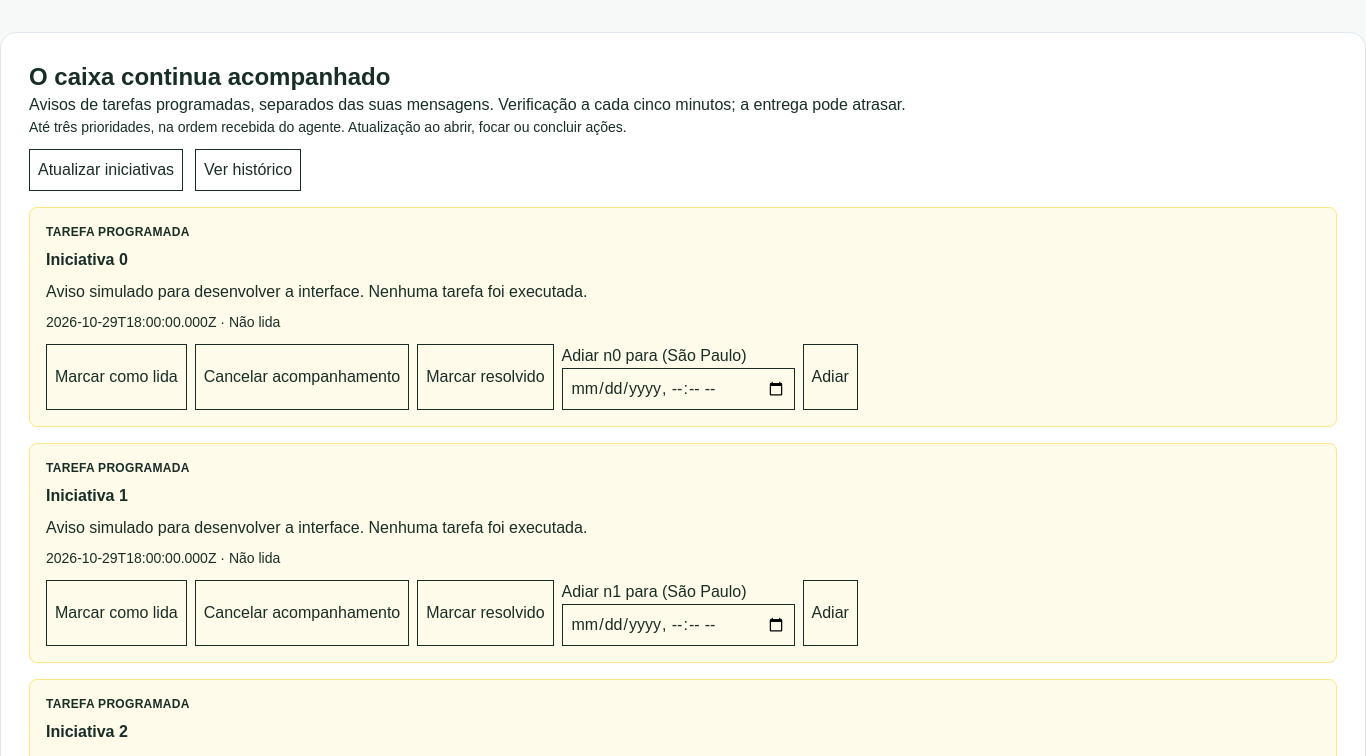
it: T20 histórico pagina vinte por página
The width and height of the screenshot is (1366, 756).
Expected: the heading "Iniciativa 0" is shown, [46,251,128,268]
What coordinates should you click on to do the following:
click the button "Ver histórico"
I would click on:
 (248, 170)
Its box is [195,149,301,191].
(page scrolled)
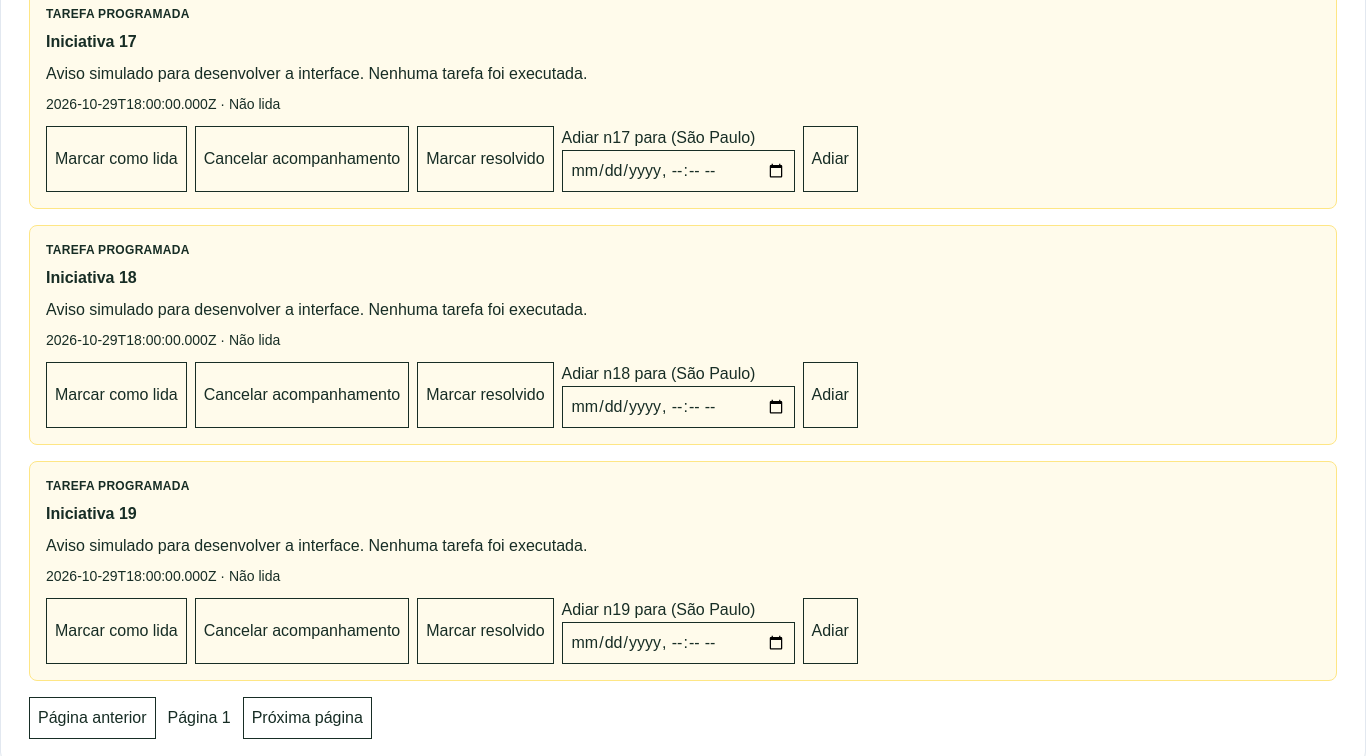
What coordinates should you click on to do the following:
click the button "Próxima página"
I would click on:
 (307, 718)
Its box is [243,697,372,739].
(page scrolled)
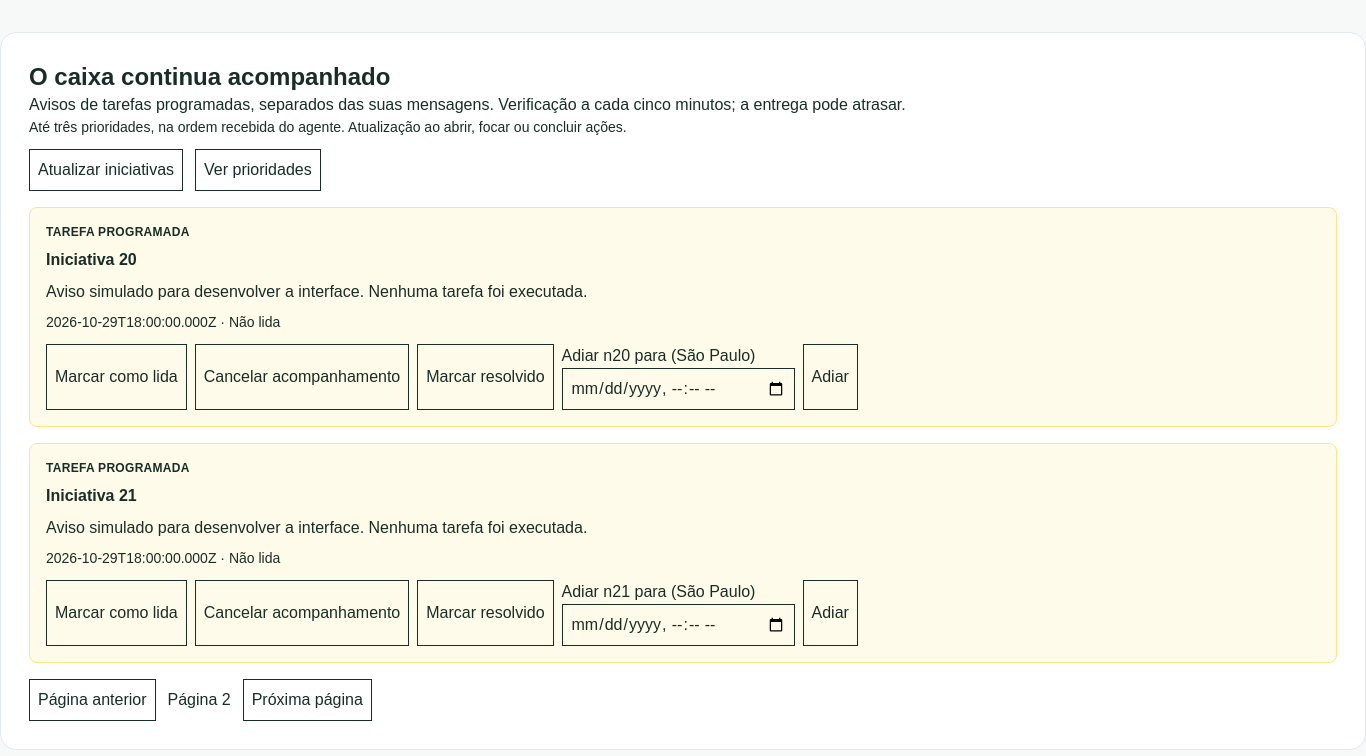
Result: the heading "Iniciativa 21" is shown at [46,487,137,504]
